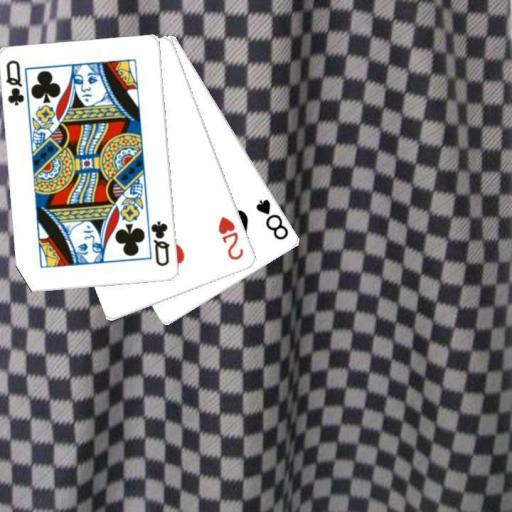2H: (216, 213, 246, 262)
8S: (253, 196, 291, 242)
QC: (148, 218, 171, 268), (4, 58, 27, 108)
